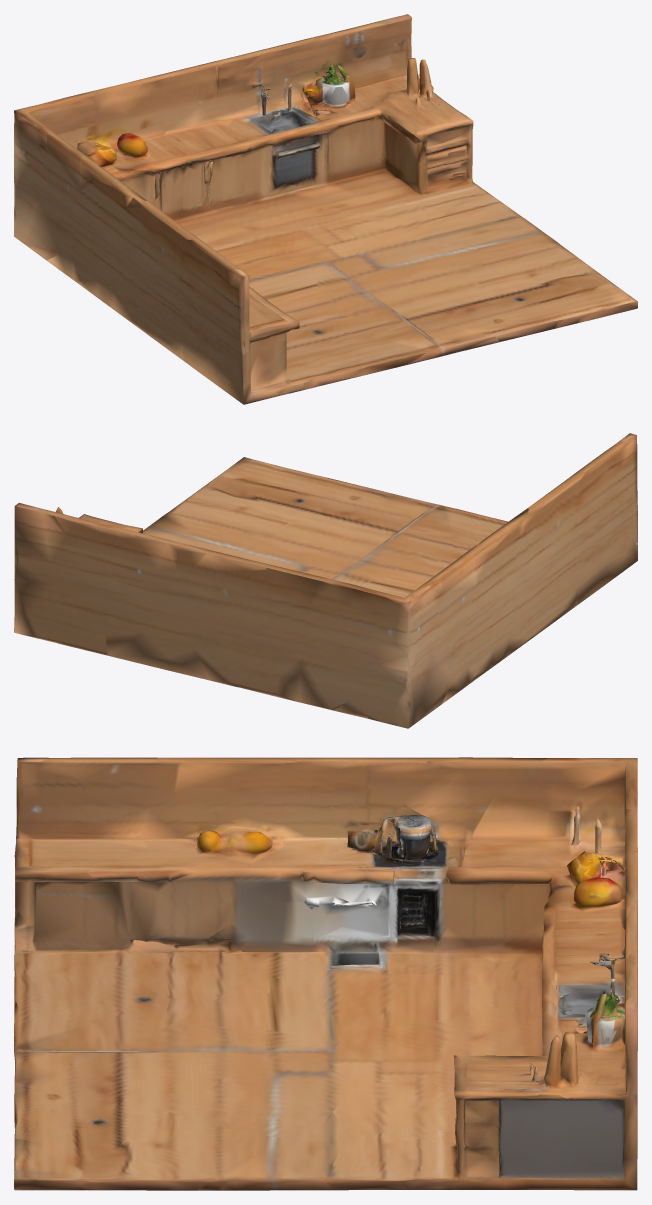
The model's file is World430c4074f1.glb.
3 views of the same model, one above another, from view 1: azimuth 30°, elevation 25°; view 2: azimuth 150°, elevation 25°; view 3: azimuth 270°, elevation 25° (orthographic). The views are drawn at different scales.
Parts seen in each view (by area): view 1: World430c4074f1; view 2: World430c4074f1; view 3: World430c4074f1.
Part boxes in pixels (x1,y1,x2,y2): World430c4074f1: (14,14,637,404); World430c4074f1: (14,433,637,728); World430c4074f1: (14,757,637,1190).
Size of the model in its own units: 3.57 by 1.1 by 3.6.
1 material, 1 textured.
